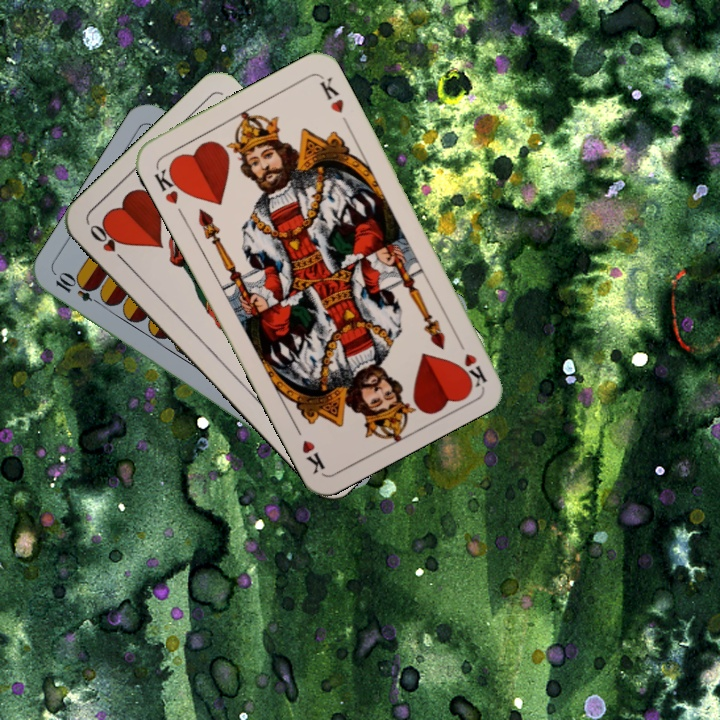E10: (51, 270, 107, 309)
HK: (451, 331, 490, 388), (150, 161, 187, 207)
HO: (85, 220, 130, 267)
